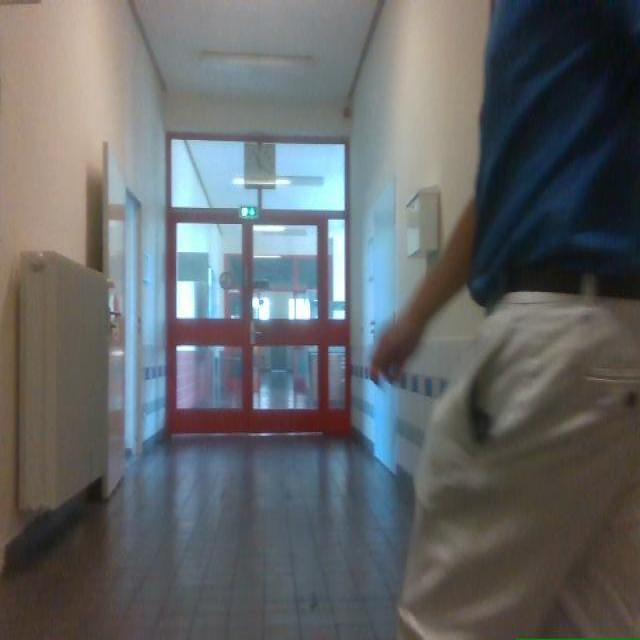humans: (373, 0, 639, 639)
